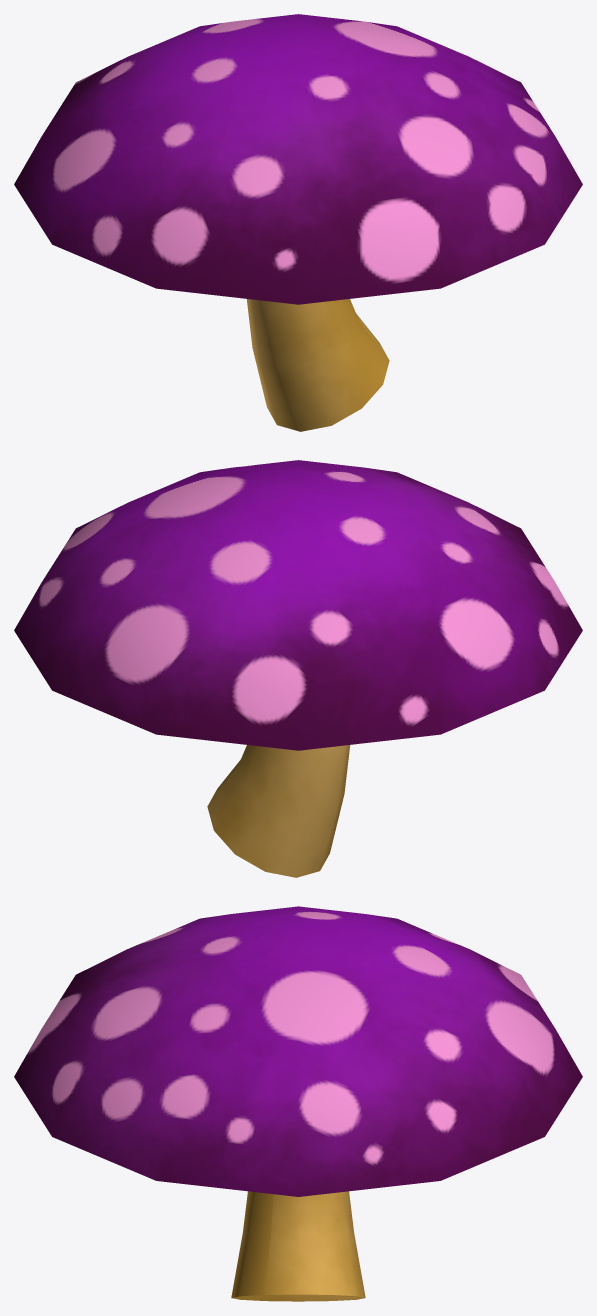
The model's file is mushroom_purple.FBX.
3 views of the same model, one above another, from view 1: azimuth 30°, elevation 25°; view 2: azimuth 150°, elevation 25°; view 3: azimuth 270°, elevation 25° (orthographic).
Visible parts, largest first — view 1: mushroom_3; view 2: mushroom_3; view 3: mushroom_3.
Boxes of the visible parts, box(x1,y1,x2,y2) form: mushroom_3: box(14, 14, 582, 431); mushroom_3: box(14, 460, 582, 877); mushroom_3: box(14, 906, 582, 1301).
Bounding box in the file's own units: 149 × 107 × 149.
Materials: 1 (1 with a texture image).
